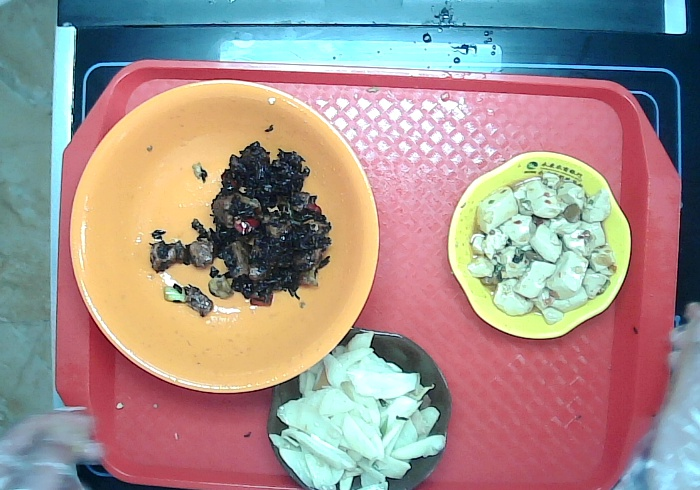YKMZ-Huang_Se_Ao_Bian_Wan: (444, 149, 633, 339)
YKMZ-Ju_Se_Tang_Wan: (66, 76, 381, 400)
YKMZ-Ka_Fei_Ao_Bian_Wan: (266, 328, 450, 490)
